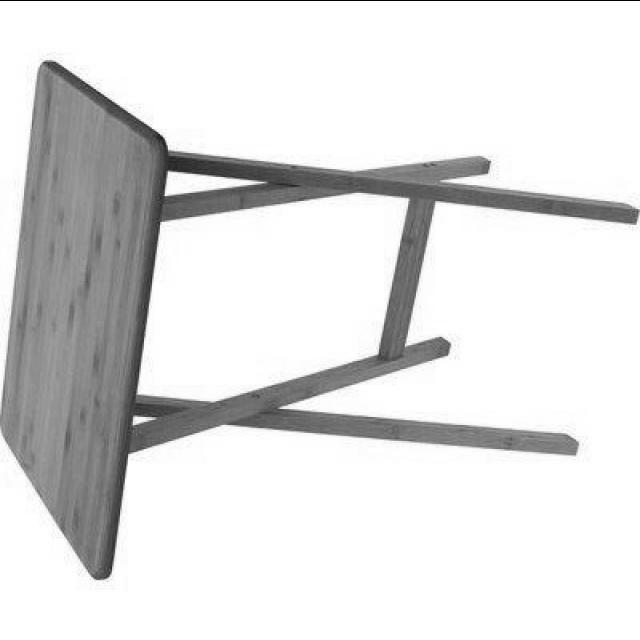table: (3, 46, 635, 576)
